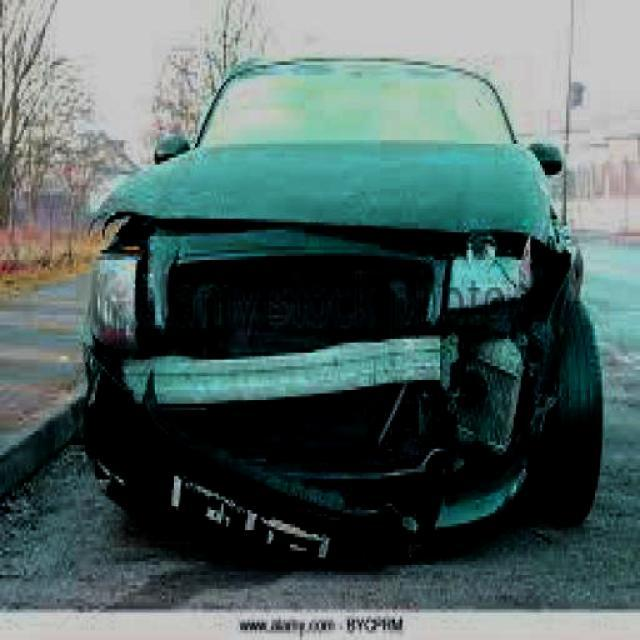car damage: (83, 195, 585, 550)
